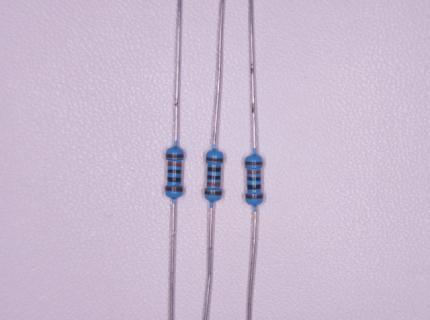Black band: (168, 177, 181, 182), (208, 167, 221, 172), (247, 177, 261, 181), (248, 185, 261, 189), (168, 170, 181, 173), (208, 176, 220, 179)
Brown band: (166, 154, 183, 158), (246, 195, 263, 199), (207, 158, 223, 162), (205, 191, 221, 195), (166, 187, 182, 191), (246, 162, 262, 165)
Orange band: (168, 162, 181, 167), (207, 182, 220, 186), (248, 171, 260, 174)
